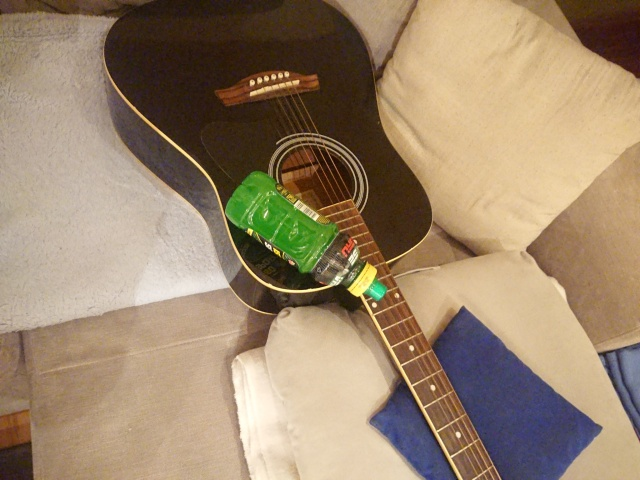Vindi Iso Sport Lemon-Grapefruit 500mL: (222, 168, 389, 304)
